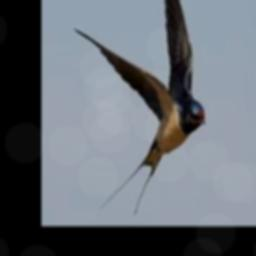Swallow: (72, 0, 205, 214)
